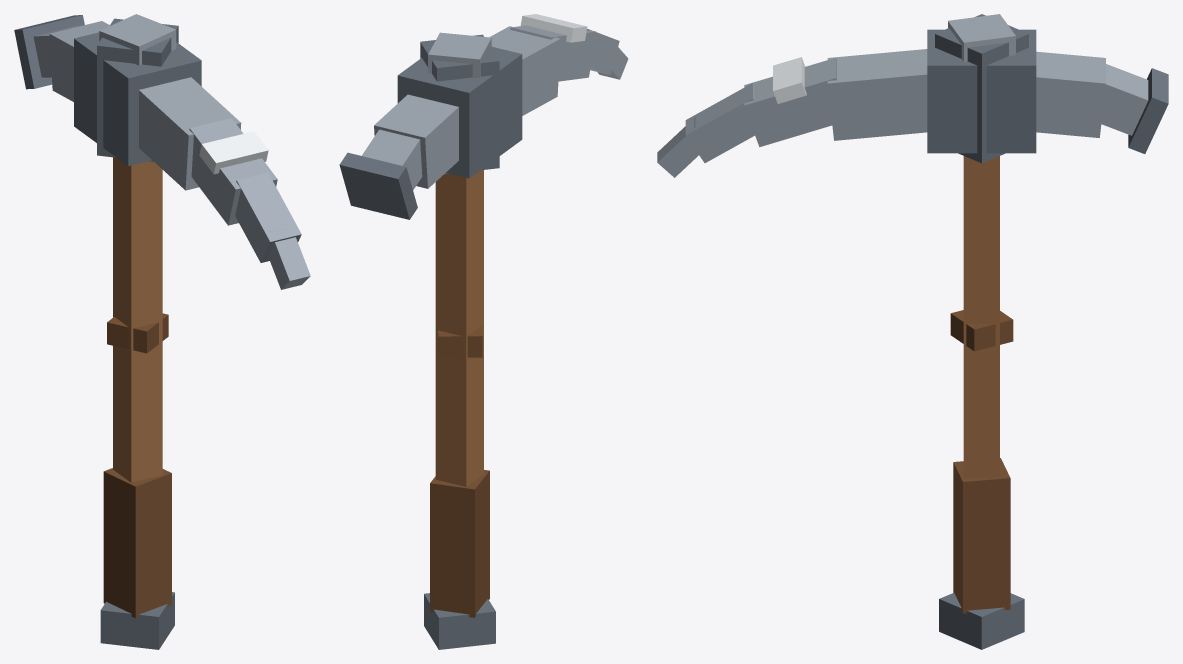
File: Pickaxe.glb
3 renders of one model, left to right at view 1: azimuth 30°, elevation 25°; view 2: azimuth 150°, elevation 25°; view 3: azimuth 270°, elevation 25°, orthographic. The views are drawn at different scales.
Visible parts, largest first — view 1: Handle, Grip, Head, Pick1, Pick3, Pick2, Pommel, HeadRound, HeadCap, Back1, BackFlat, PickGlint (+3 smaller); view 2: Handle, Grip, Head, Back1, BackFlat, Pick1, Pommel, HeadRound, Back2, Pick2, HeadCap, Band (+2 smaller); view 3: Handle, Head, Pick1, Grip, Back1, Pick2, Pick3, Pommel, HeadRound, Back2, HeadCap, BackFlat (+3 smaller).
Part boxes in pixels (x1,y1,x2,y2): Handle: (113,157,162,482); Grip: (103,468,171,618); Head: (74,32,201,165); Pick1: (139,77,241,190); Pick3: (235,172,301,262); Pick2: (189,118,277,225); Pommel: (100,592,174,649); HeadRound: (97,18,178,161); HeadCap: (99,14,176,65); Back1: (49,21,109,101); BackFlat: (14,15,84,89); PickGlint: (199,131,268,174); Handle: (435,170,483,486); Grip: (430,470,489,617); Head: (397,46,522,178); Back1: (374,94,458,188); BackFlat: (339,152,417,219); Pick1: (490,26,560,115); Pommel: (424,593,495,649); HeadRound: (420,34,499,174); Back2: (362,129,422,190); Pick2: (510,25,596,81); HeadCap: (428,32,491,78); Band: (438,326,482,357); Handle: (963,156,999,477); Head: (927,29,1036,153); Pick1: (827,49,927,140); Grip: (953,458,1010,613); Back1: (1036,51,1105,137); Pick2: (744,57,836,147); Pick3: (685,83,754,162); Pommel: (939,593,1024,649); HeadRound: (935,14,1028,163); Back2: (1101,64,1148,135); HeadCap: (948,14,1015,61); BackFlat: (1128,68,1168,153).
Size of the model in its own units: 1.56 by 11 by 8.45.
